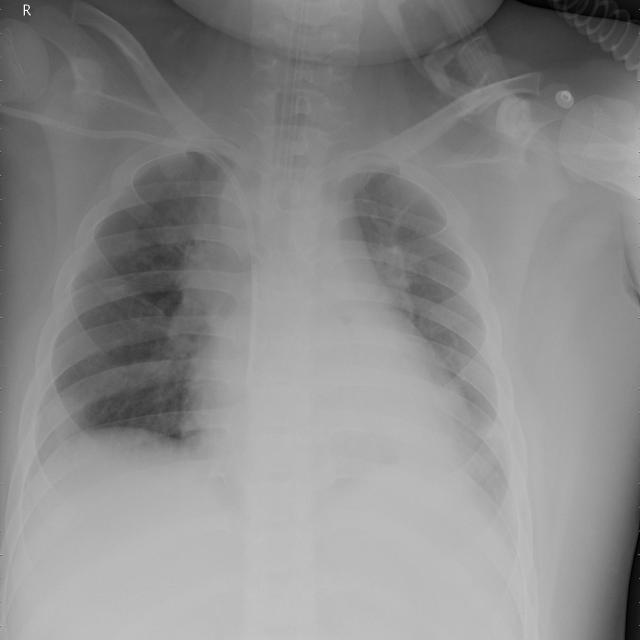low-pneumonia: (156, 164, 257, 371), (448, 316, 525, 503), (357, 167, 464, 277)
